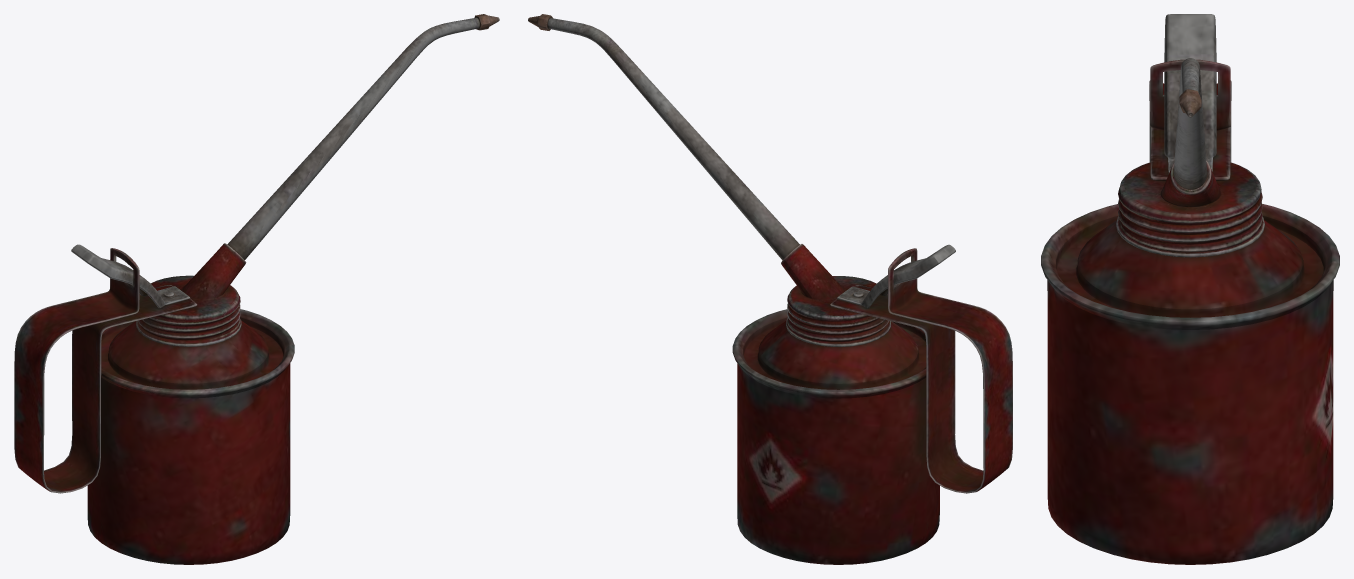
File: oil-can.glb
3 views of the same model, side by side, from view 1: azimuth 30°, elevation 25°; view 2: azimuth 150°, elevation 25°; view 3: azimuth 270°, elevation 25° (orthographic). The views are drawn at different scales.
Parts seen in each view (by area): view 1: small_oil_can_01; view 2: small_oil_can_01; view 3: small_oil_can_01.
Part boxes in pixels (x1,y1,x2,y2): small_oil_can_01: [14, 14, 499, 564]; small_oil_can_01: [528, 14, 1012, 564]; small_oil_can_01: [1041, 14, 1339, 564].
Size of the model in its own units: 0.2661 by 0.2368 by 0.1038.
Materials: 1 (1 with a texture image).
